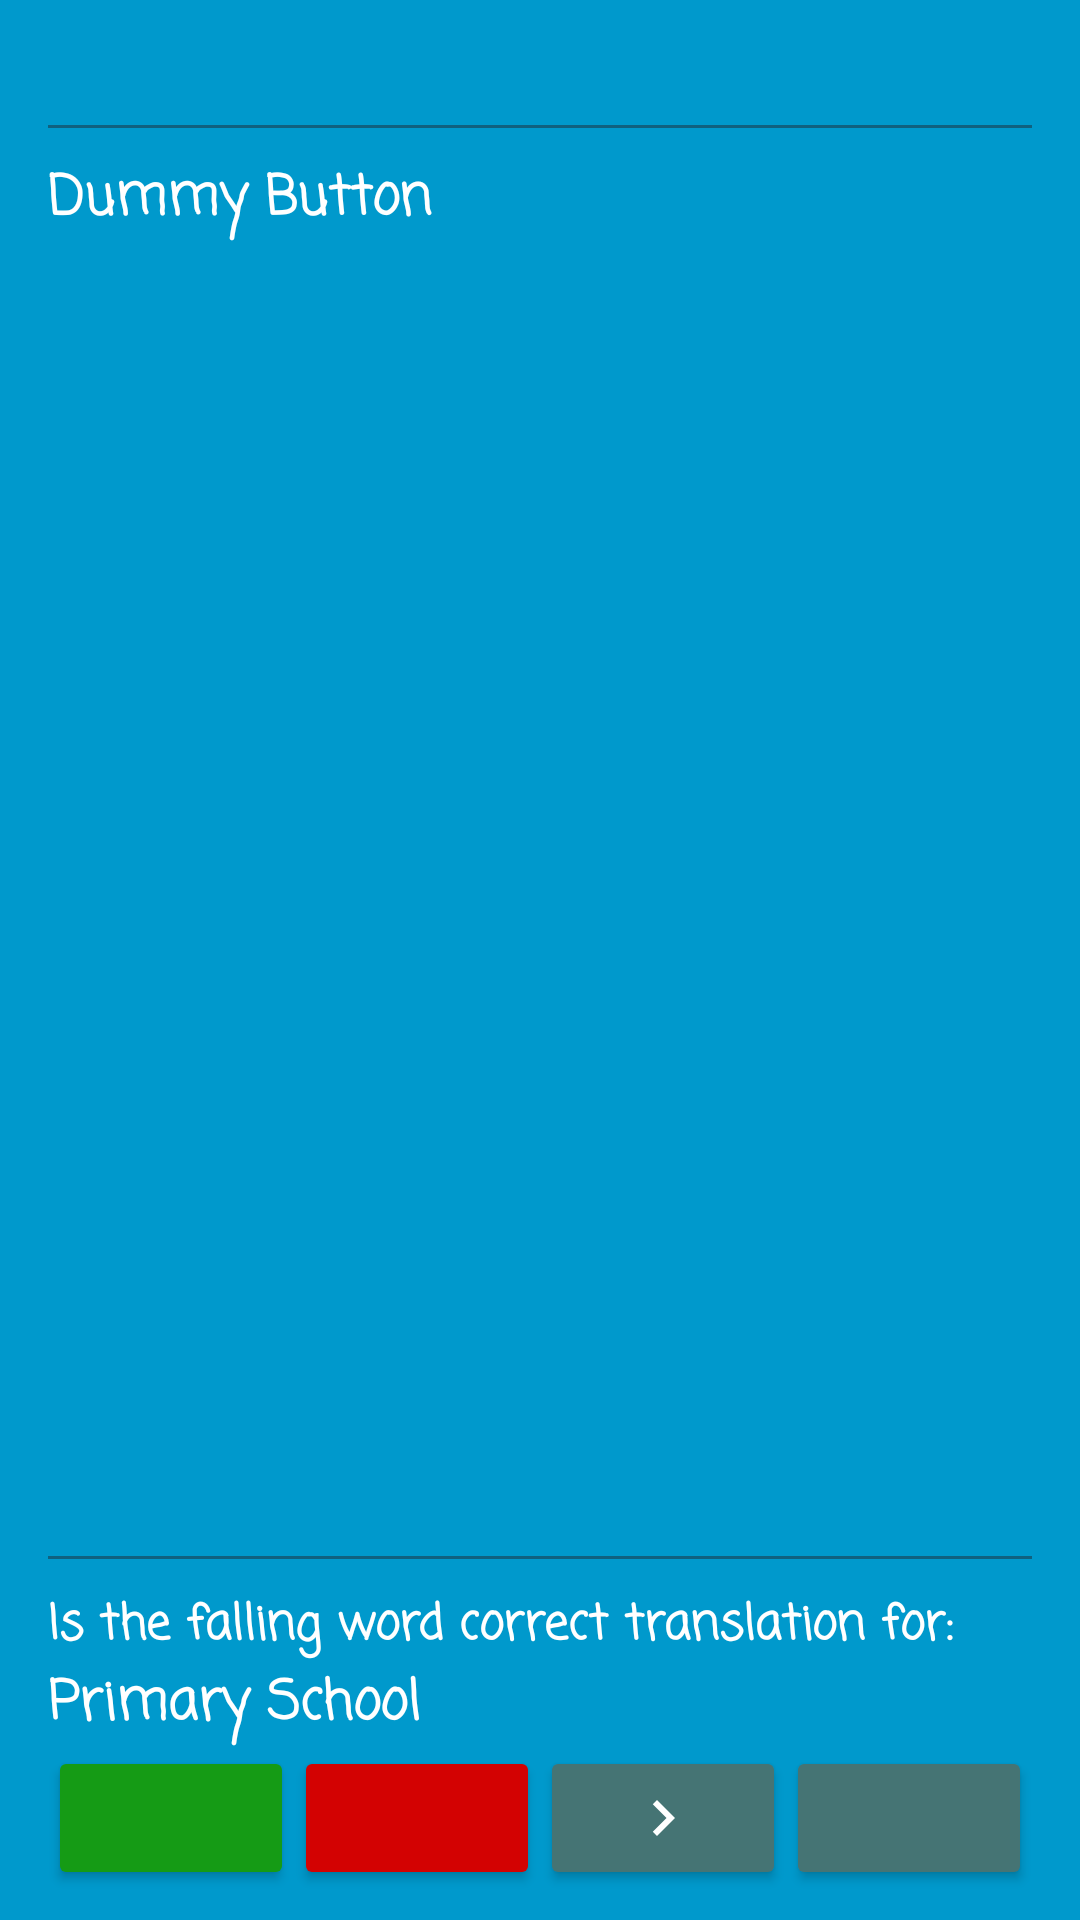

Icon click points for this 1080px×1920px phone screenshot, format [x,y]:
next: [663,1820]
